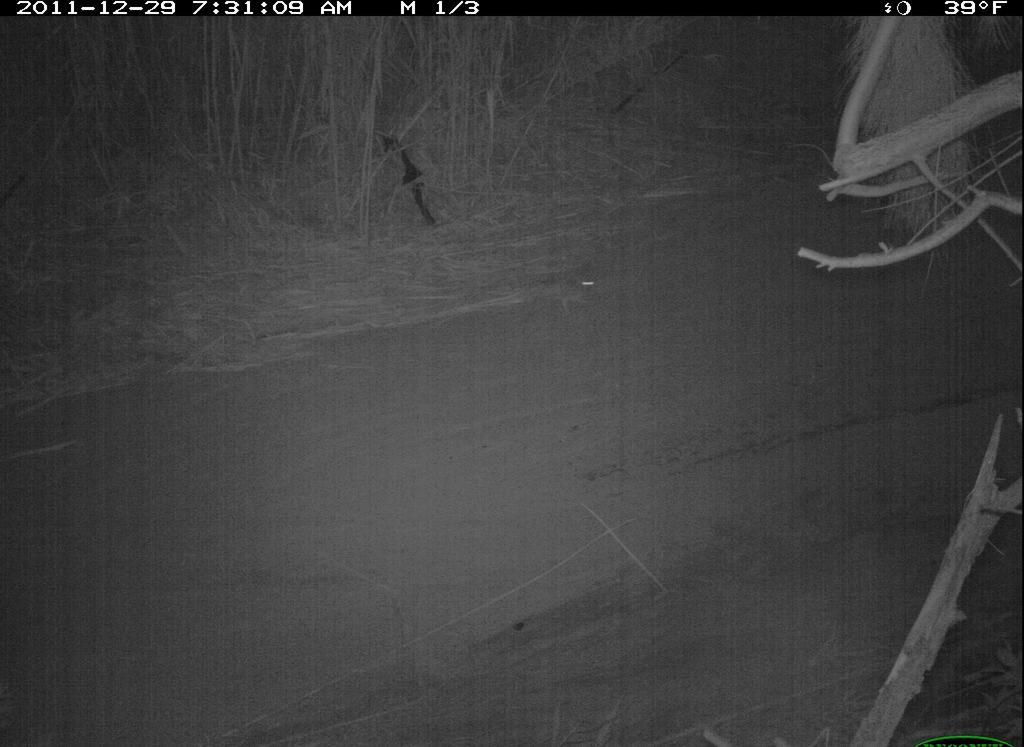rabbit: (524, 271, 600, 318)
